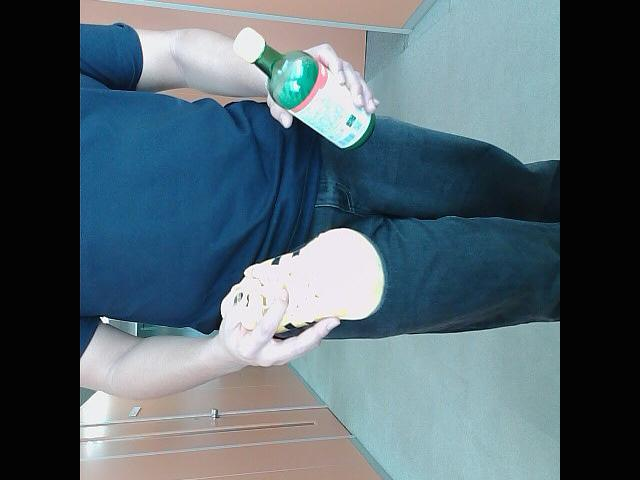Lemon_sapporo: (230, 22, 380, 150)
Shoes: (223, 225, 388, 339)
